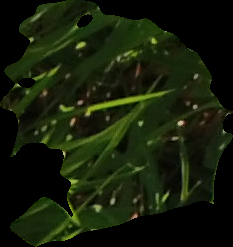grass: (1, 1, 230, 246)
